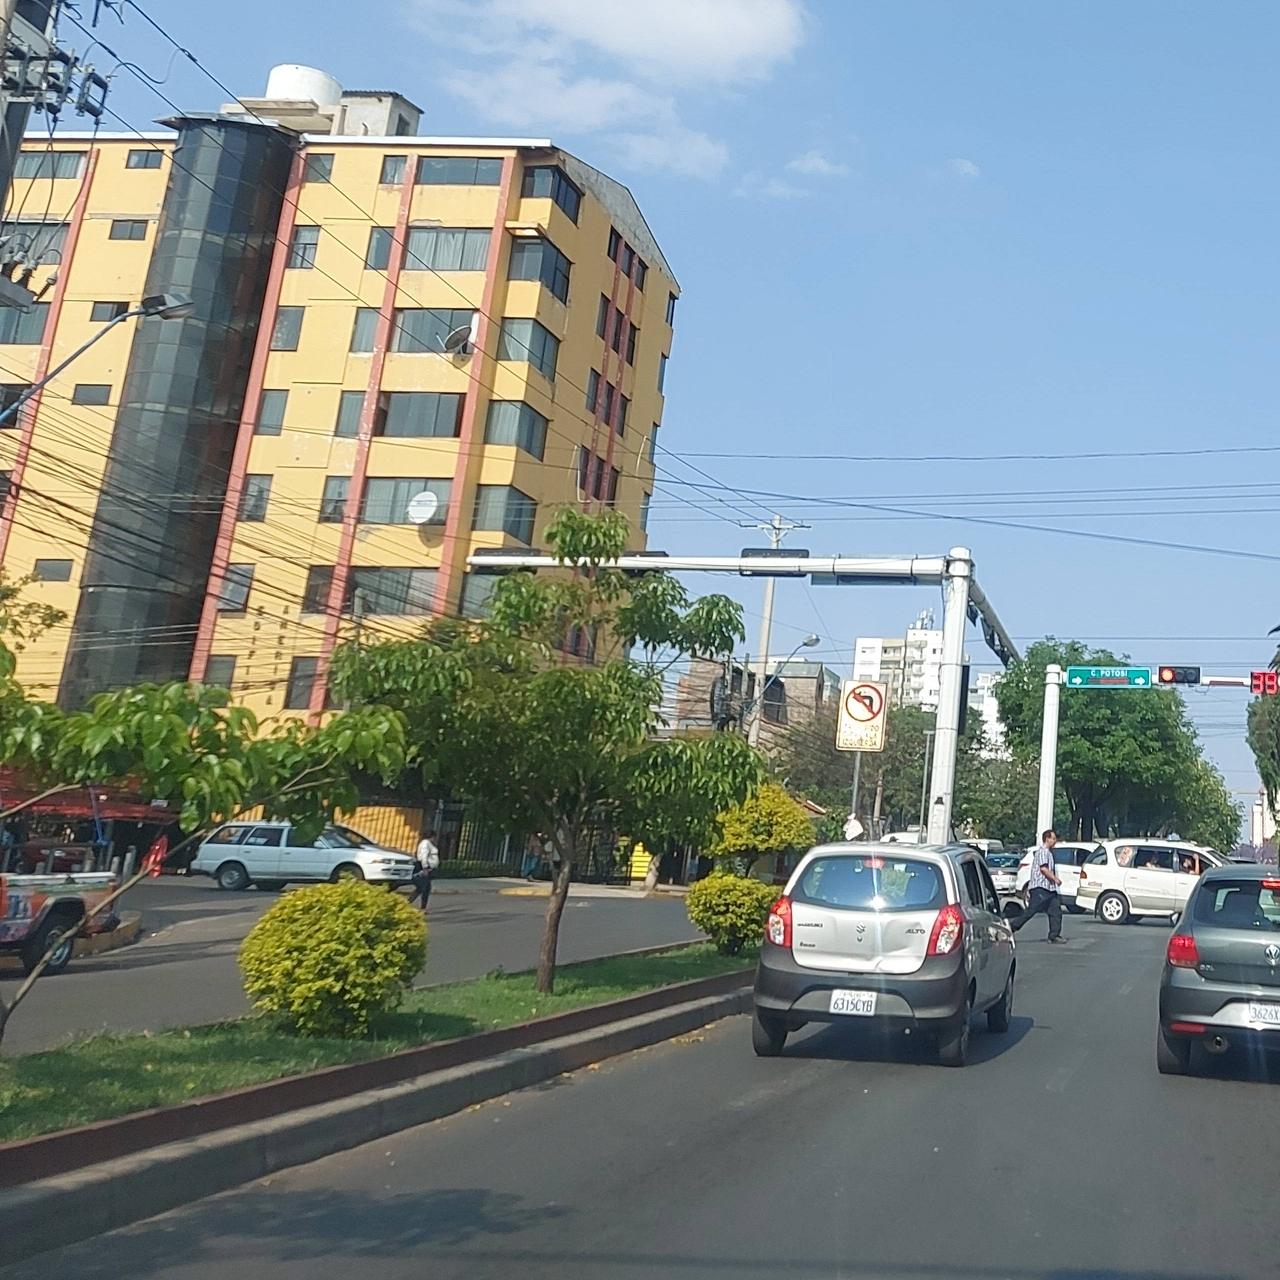prohibido-girar-izquierda: (836, 680, 887, 754)
